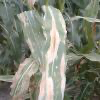Corn leaf blight: (41, 5, 70, 99), (18, 9, 52, 73), (11, 57, 41, 99)
